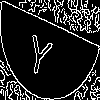Y: (25, 24, 56, 79)
